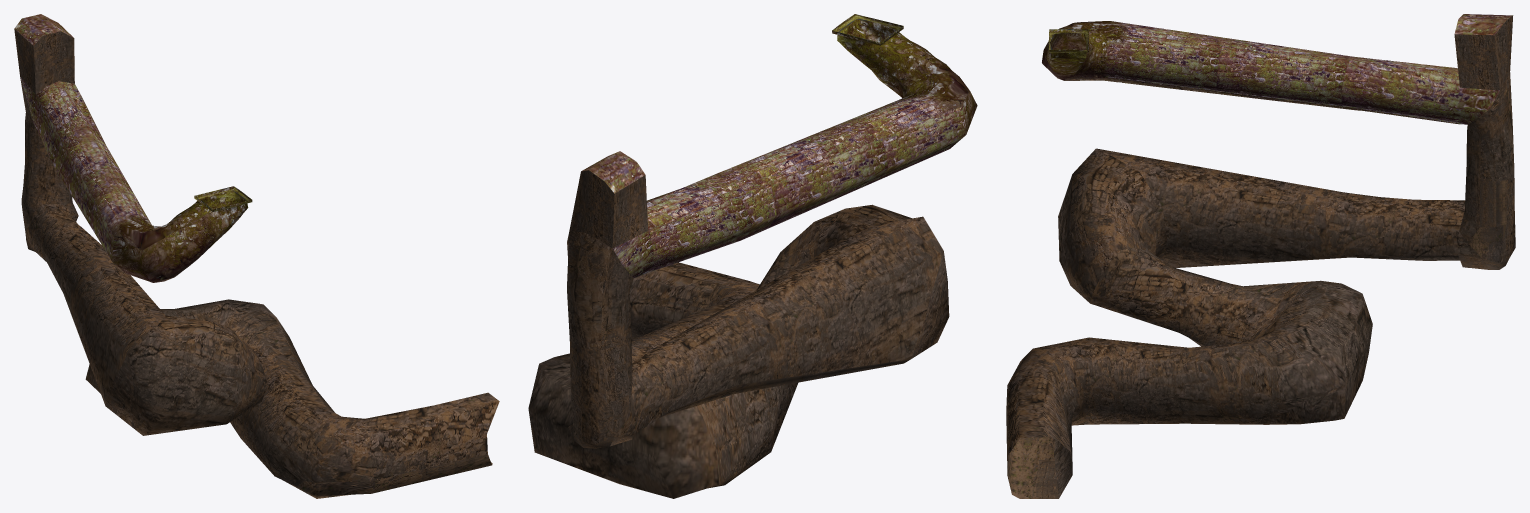
The model's file is UVTunnelFix.fbx.
The picture shows the model from 3 angles, left to right: view 1: azimuth 30°, elevation 25°; view 2: azimuth 150°, elevation 25°; view 3: azimuth 270°, elevation 25°; orthographic projection. The views are drawn at different scales.
Parts seen in each view (by area): view 1: Tunnels1; view 2: Tunnels1; view 3: Tunnels1.
Boxes of the visible parts, x1,y1,x2,y2 form: Tunnels1: (14, 14, 499, 498); Tunnels1: (528, 14, 977, 498); Tunnels1: (1006, 14, 1515, 498).
Bounding box in the file's own units: 1023 × 946 × 1208.
